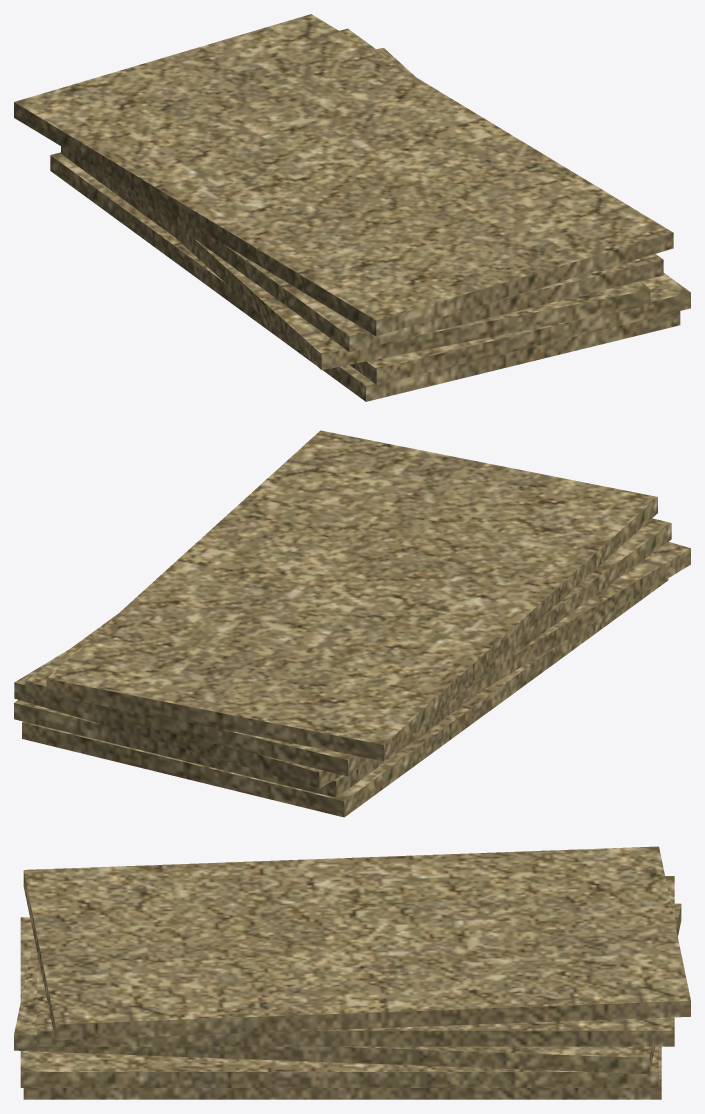
The model's file is insulation_pile_01.DAE.
3 renders of one model, top to bottom at view 1: azimuth 30°, elevation 25°; view 2: azimuth 150°, elevation 25°; view 3: azimuth 270°, elevation 25°, orthographic. The views are drawn at different scales.
Visible parts, largest first — view 1: Box027; view 2: Box027; view 3: Box027.
Part boxes in pixels (x1,y1,x2,y2): Box027: [14, 14, 690, 401]; Box027: [14, 430, 690, 817]; Box027: [14, 846, 690, 1099].
Size of the model in its own units: 1.18 by 0.2431 by 1.87.
